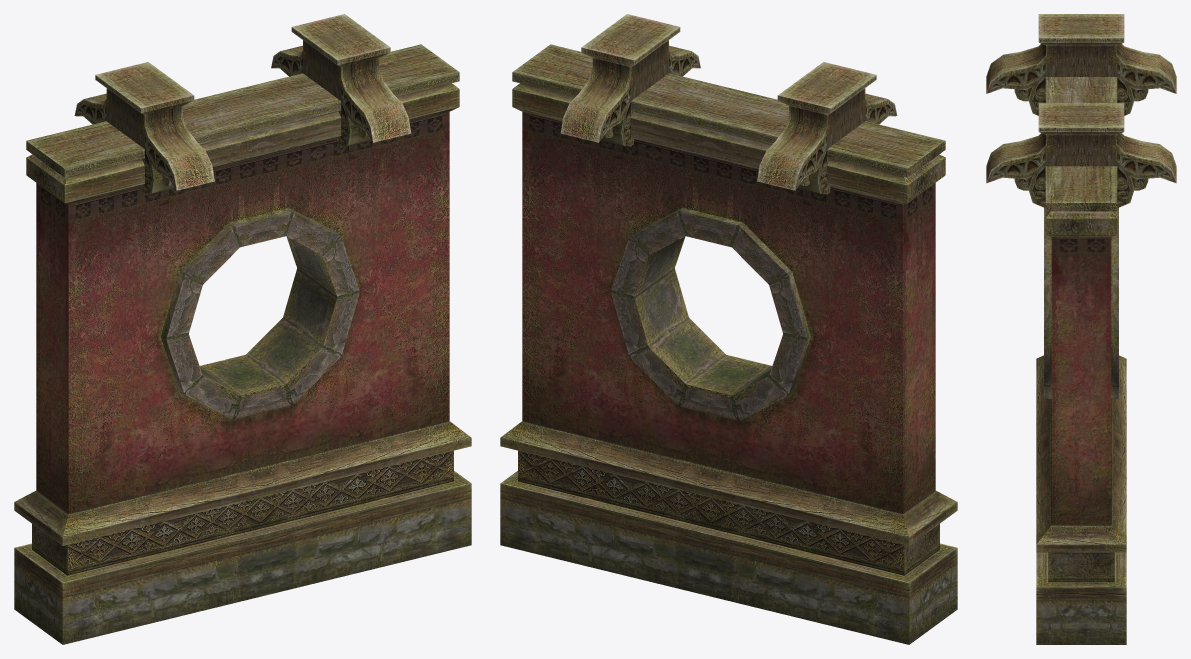
The model's file is fortressa_wall_b_00.glb.
3 renders of one model, left to right at view 1: azimuth 30°, elevation 25°; view 2: azimuth 150°, elevation 25°; view 3: azimuth 270°, elevation 25°, orthographic. The views are drawn at different scales.
Parts seen in each view (by area): view 1: fortressA_wall_B_00; view 2: fortressA_wall_B_00; view 3: fortressA_wall_B_00.
Part boxes in pixels (x1,y1,x2,y2): fortressA_wall_B_00: (14,14,471,644); fortressA_wall_B_00: (500,14,957,644); fortressA_wall_B_00: (986,14,1176,644).
Bounding box in the file's own units: 11.49 × 13.86 × 4.97.
1 material, 1 textured.
